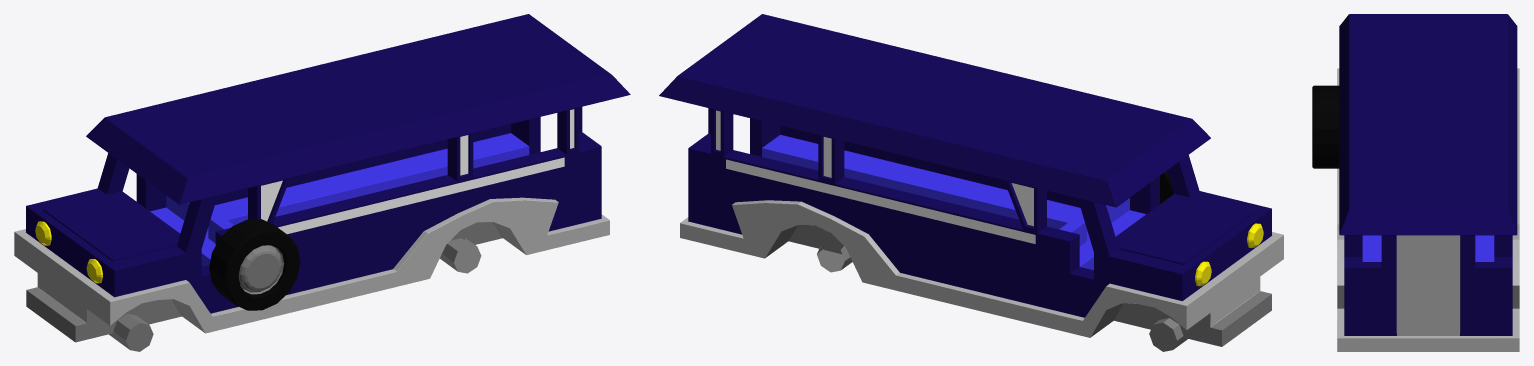
File: Jeep_2.fbx
3 renders of one model, left to right at view 1: azimuth 30°, elevation 25°; view 2: azimuth 150°, elevation 25°; view 3: azimuth 270°, elevation 25°, orthographic. The views are drawn at different scales.
Parts seen in each view (by area): view 1: Cube.001; view 2: Cube.001; view 3: Cube.001.
Boxes of the visible parts, <box> form: Cube.001: <box>14,14,630,351</box>; Cube.001: <box>659,14,1283,351</box>; Cube.001: <box>1312,14,1519,351</box>.
Size of the model in its own units: 570 by 171 by 202.
